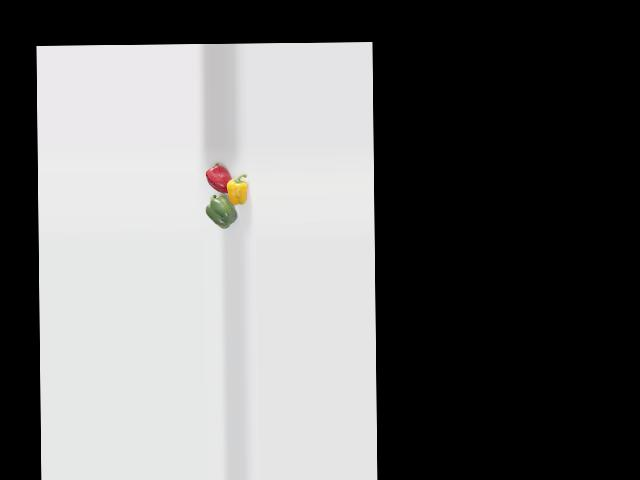bell_pepper: (222, 173, 250, 205)
